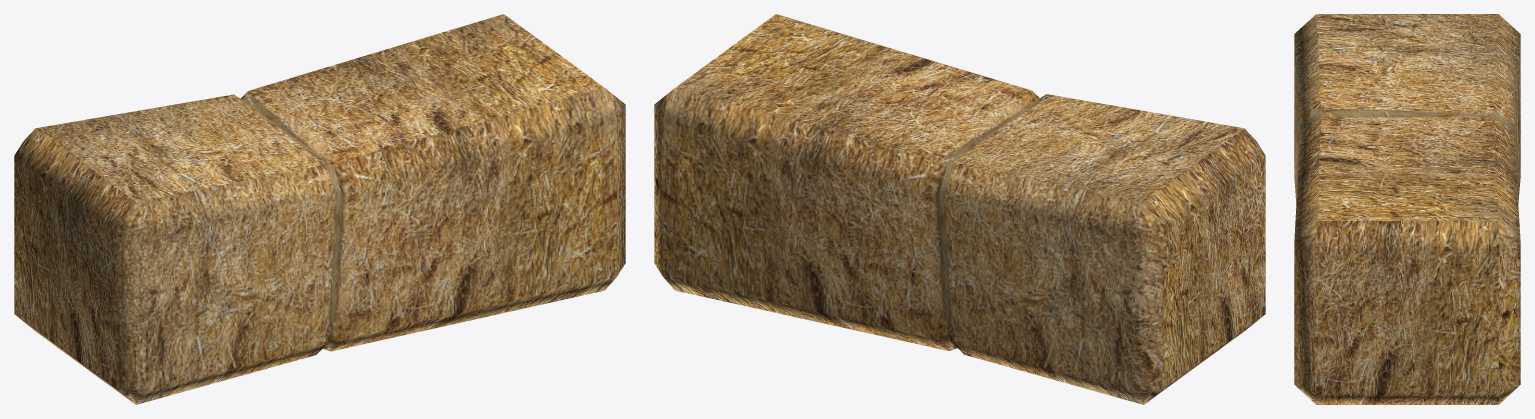
File: strohballen_03.fbx
3 views of the same model, side by side, from view 1: azimuth 30°, elevation 25°; view 2: azimuth 150°, elevation 25°; view 3: azimuth 270°, elevation 25° (orthographic). The views are drawn at different scales.
Visible parts, largest first — view 1: Mesh; view 2: Mesh; view 3: Mesh.
Part boxes in pixels (<box>): Mesh: <box>14,14,625,404</box>; Mesh: <box>654,14,1265,404</box>; Mesh: <box>1294,14,1520,404</box>.
Size of the model in its own units: 241 by 91.56 by 102.
